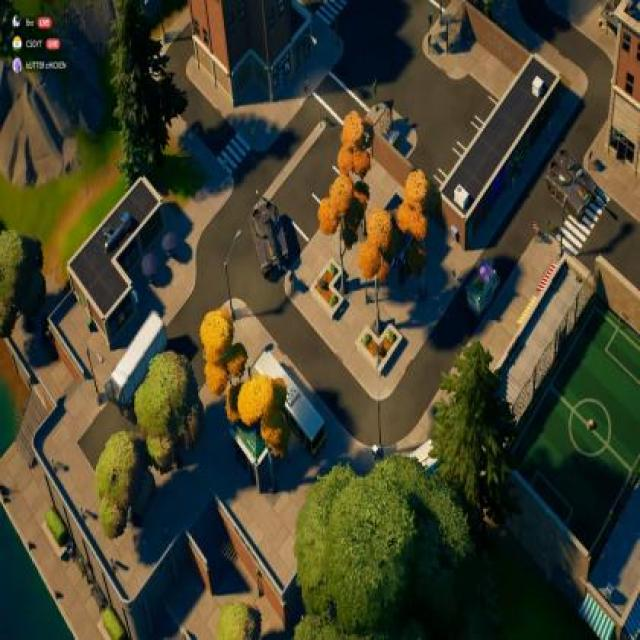tank: (546, 147, 604, 223), (250, 200, 289, 280)
